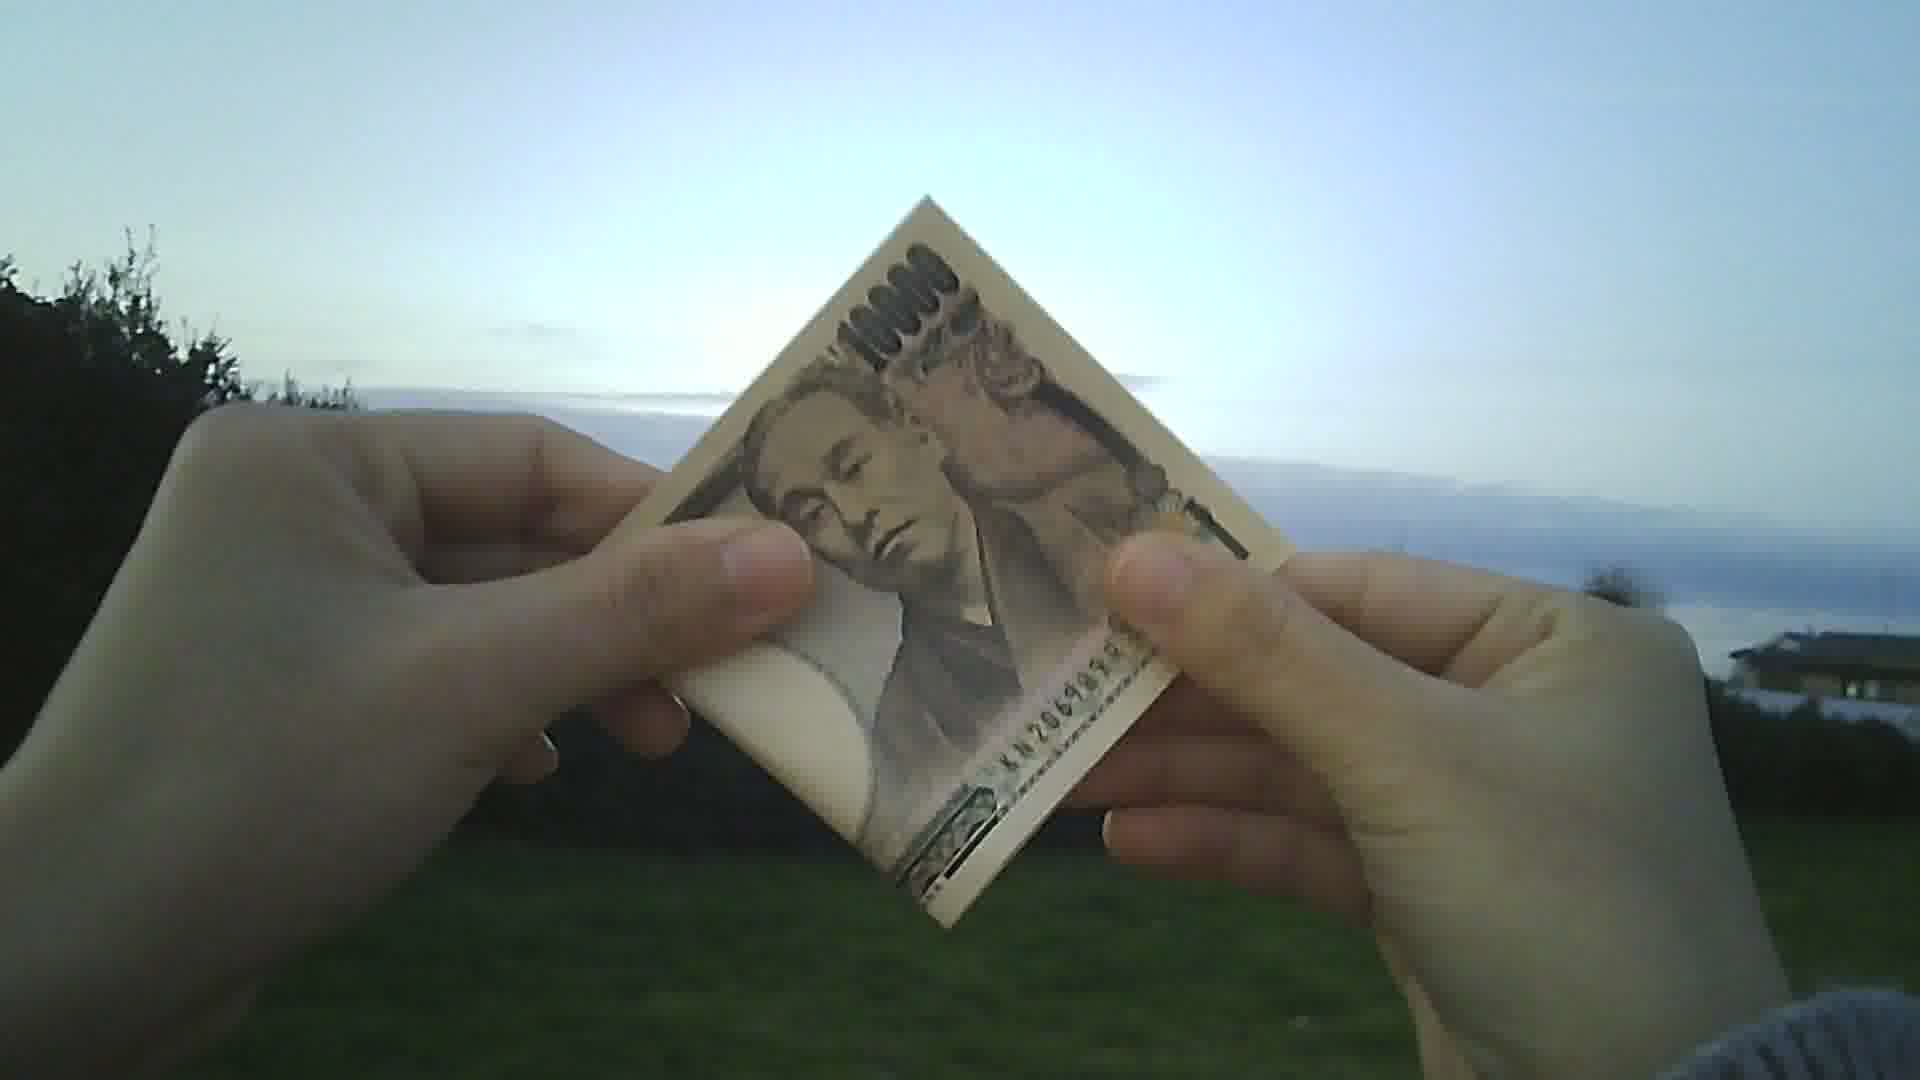10,000 Yen: (547, 173, 1300, 951)
